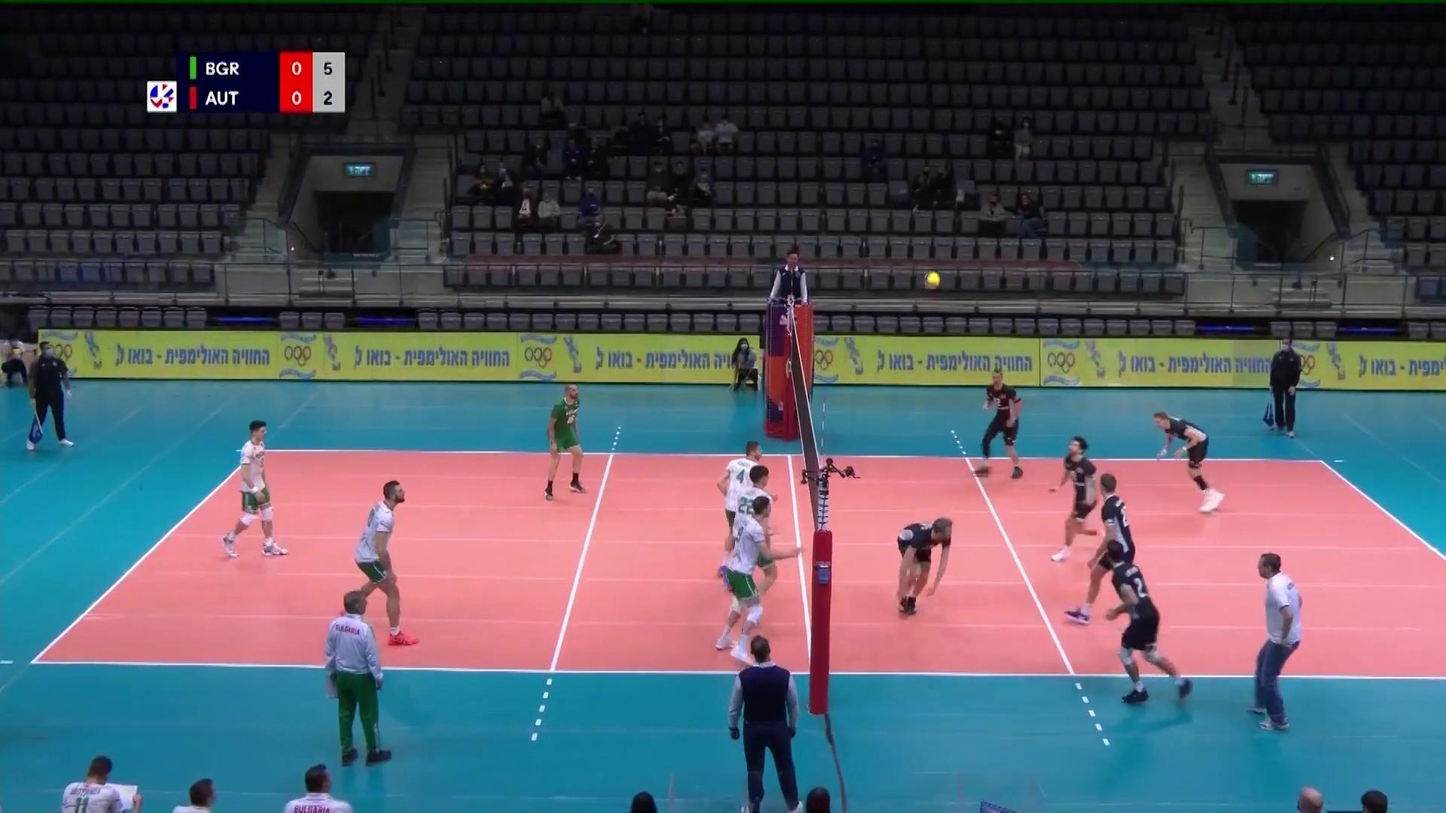ball: (922, 270, 942, 291)
